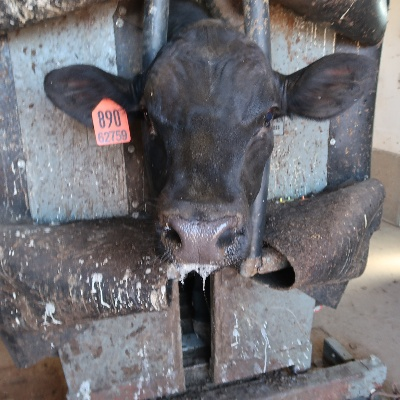fidget_spinner: (145, 204, 254, 280)
